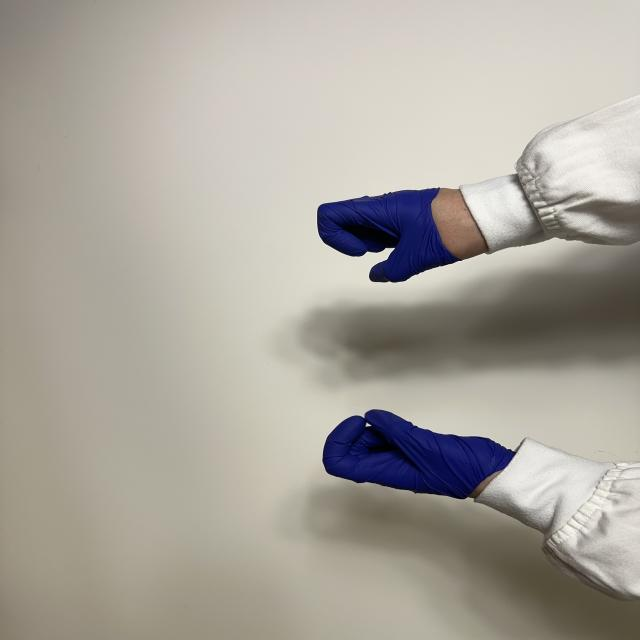glove_not_fitted: (321, 406, 524, 499), (314, 185, 496, 282)
